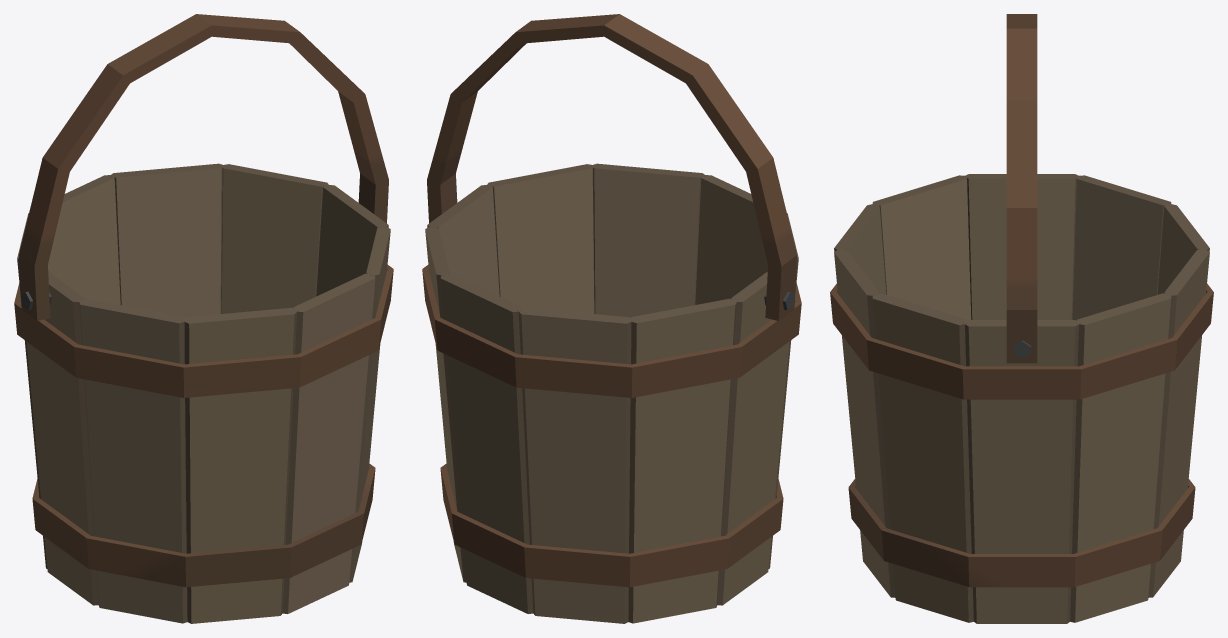
Rendered from SM_Props_Farm_Bucket_Wood_01.fbx.
The picture shows the model from 3 angles, left to right: view 1: azimuth 30°, elevation 25°; view 2: azimuth 150°, elevation 25°; view 3: azimuth 270°, elevation 25°; orthographic projection.
Parts seen in each view (by area): view 1: SM_Props_Farm_Bucket_Wood_01, SM_Props_Farm_Bucket_Wood_01_Handle; view 2: SM_Props_Farm_Bucket_Wood_01, SM_Props_Farm_Bucket_Wood_01_Handle; view 3: SM_Props_Farm_Bucket_Wood_01, SM_Props_Farm_Bucket_Wood_01_Handle.
Boxes of the visible parts, left/top/right/bottom form: SM_Props_Farm_Bucket_Wood_01: left=14, top=163, right=393, bottom=623; SM_Props_Farm_Bucket_Wood_01_Handle: left=19, top=14, right=388, bottom=320; SM_Props_Farm_Bucket_Wood_01: left=422, top=163, right=801, bottom=623; SM_Props_Farm_Bucket_Wood_01_Handle: left=427, top=14, right=796, bottom=320; SM_Props_Farm_Bucket_Wood_01: left=830, top=174, right=1213, bottom=623; SM_Props_Farm_Bucket_Wood_01_Handle: left=1006, top=14, right=1037, bottom=363.
Size of the model in its own units: 64.5 by 92.7 by 60.76.
